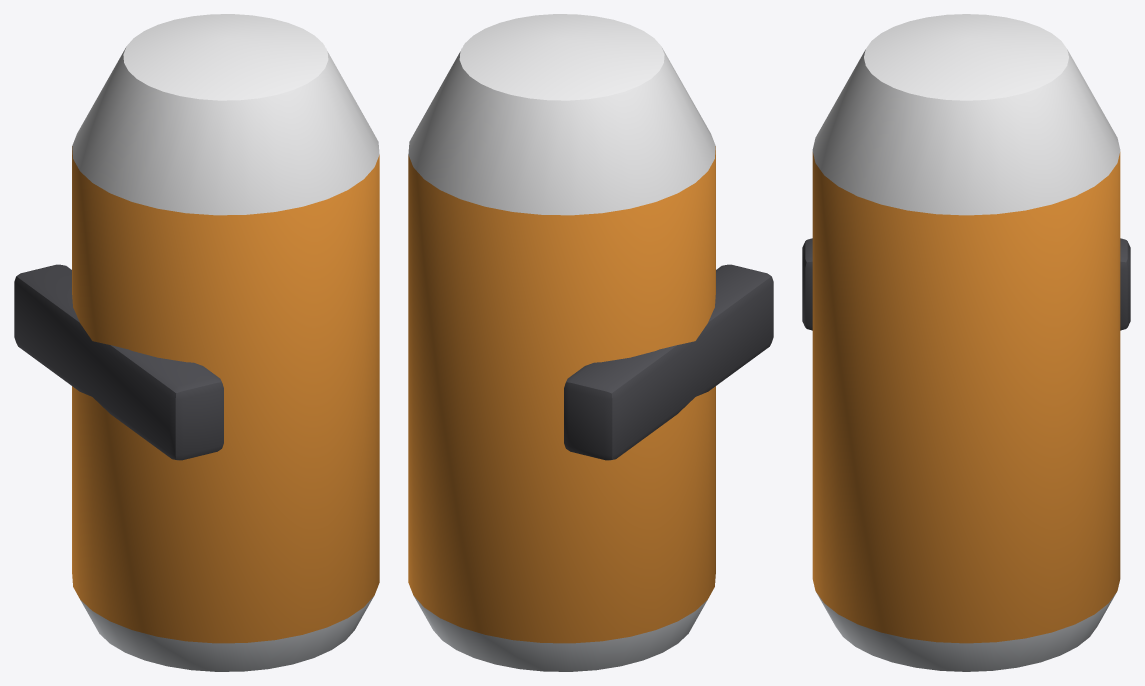
File: chute_radial.glb
The picture shows the model from 3 angles, left to right: view 1: azimuth 30°, elevation 25°; view 2: azimuth 150°, elevation 25°; view 3: azimuth 270°, elevation 25°; orthographic projection.
Parts seen in each view (by area): view 1: chute_radial; view 2: chute_radial; view 3: chute_radial.
Boxes of the visible parts, left/top/right/bottom form: chute_radial: left=14, top=14, right=379, bottom=671; chute_radial: left=408, top=14, right=773, bottom=671; chute_radial: left=802, top=14, right=1130, bottom=671.
Bounding box in the file's own units: 0.3 × 0.62 × 0.32.
